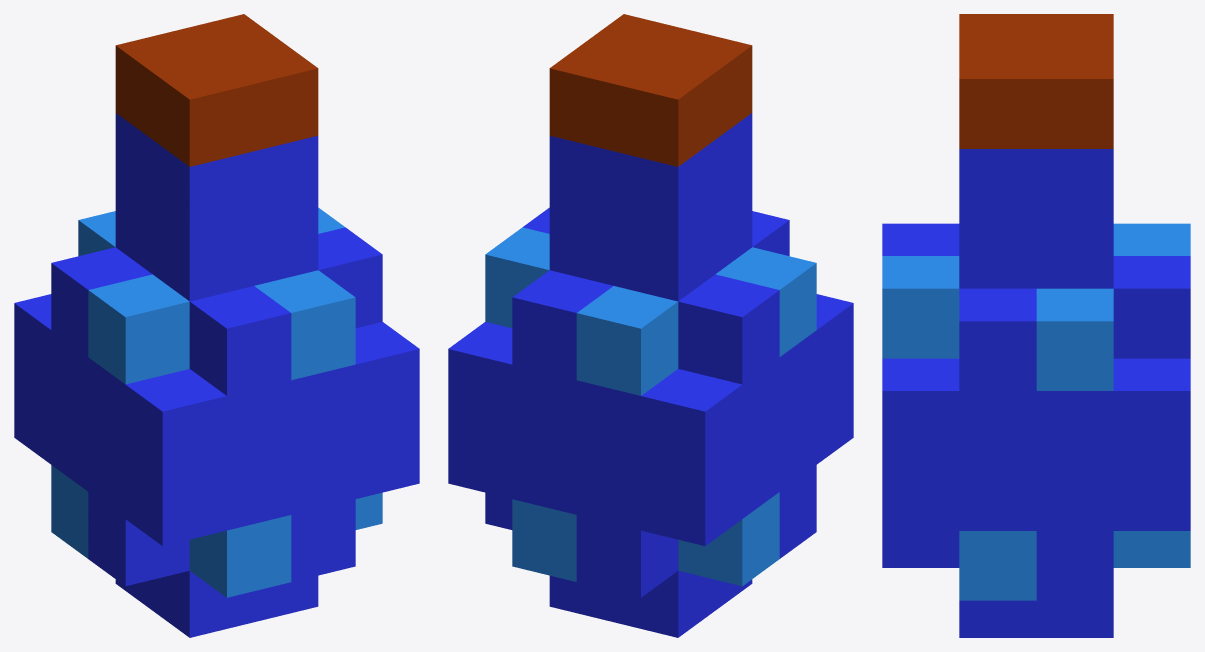
The model's file is Potion of Mana.obj.
3 renders of one model, left to right at view 1: azimuth 30°, elevation 25°; view 2: azimuth 150°, elevation 25°; view 3: azimuth 270°, elevation 25°, orthographic. The views are drawn at different scales.
Bounding box in the file's own units: 0.4 × 0.8 × 0.4.
1 material, 1 textured.
